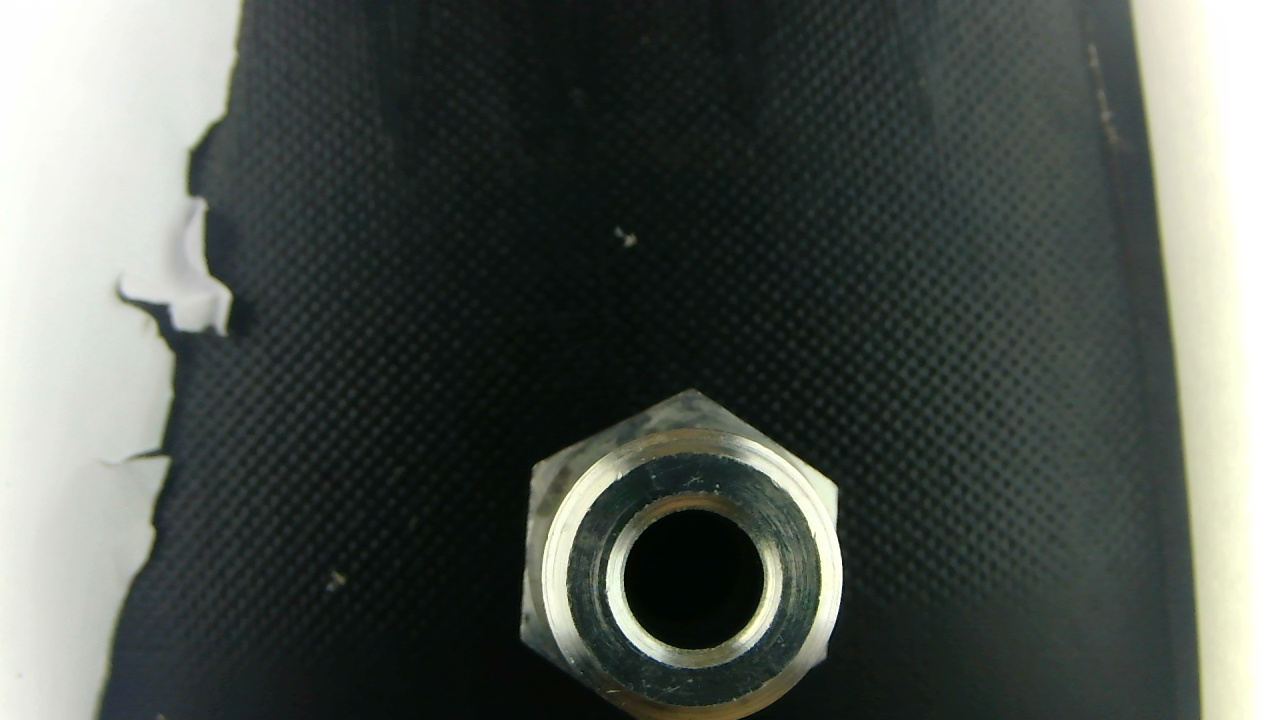blackpatch: (615, 389, 705, 448)
